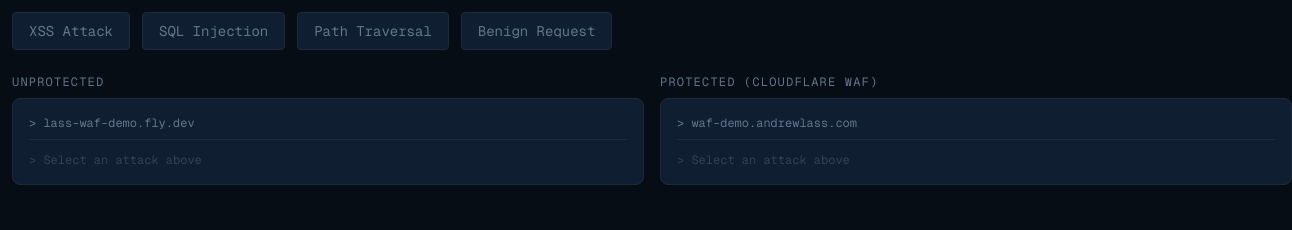
Test: benign attack › populates both panel bodies
This screenshot has width=1292, height=230.
Click the button "Benign Request": (537, 31) [461, 12, 612, 50]
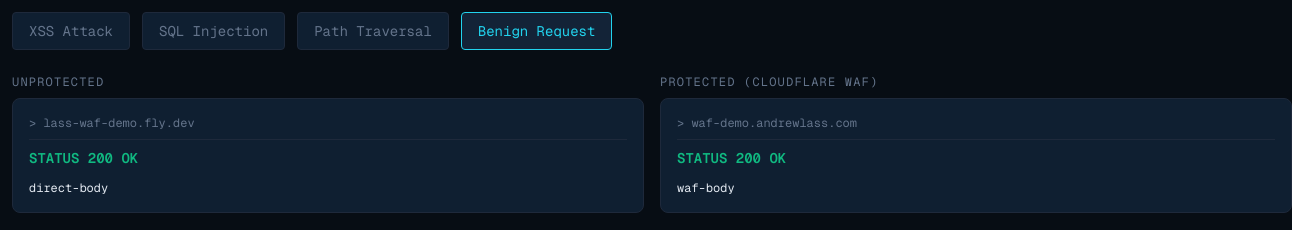
Expected: the text "direct-body" is shown, [29, 180, 108, 196]
Expected: the text "waf-body" is shown, [677, 180, 735, 196]
